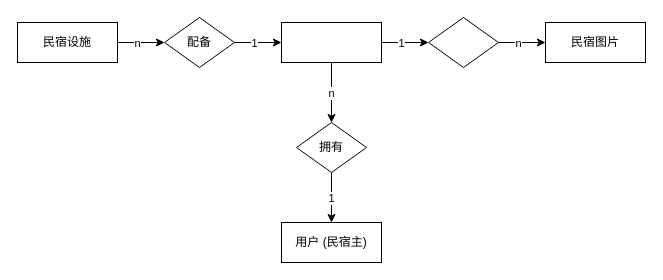
Image size: 663x280. Some labels were removed from this diagram. Here are the shapes that lost their labels. From the top down, the centre of each, then its label:
the point at 331,42: 民宿
the point at 463,42: 包含
